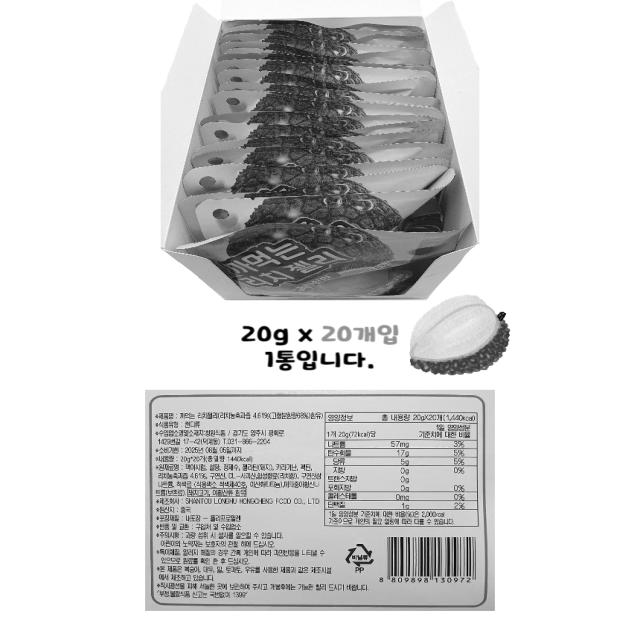Nutrition Label: (326, 407, 490, 530)
